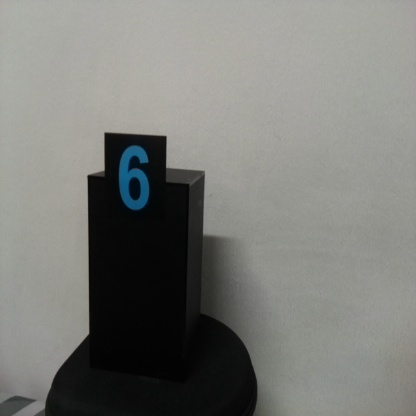id_6: (106, 133, 166, 243)
